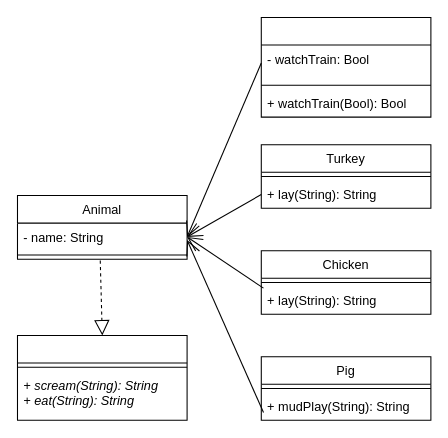
The diagram is 448 pixels wide and 438 high, and some of its shapes have lost their labels. The box of each missing label's shape, as (x1, y1, x2, y2) in pixels:
AnimalAct: (16, 334, 187, 420)
Cow: (260, 16, 431, 117)
